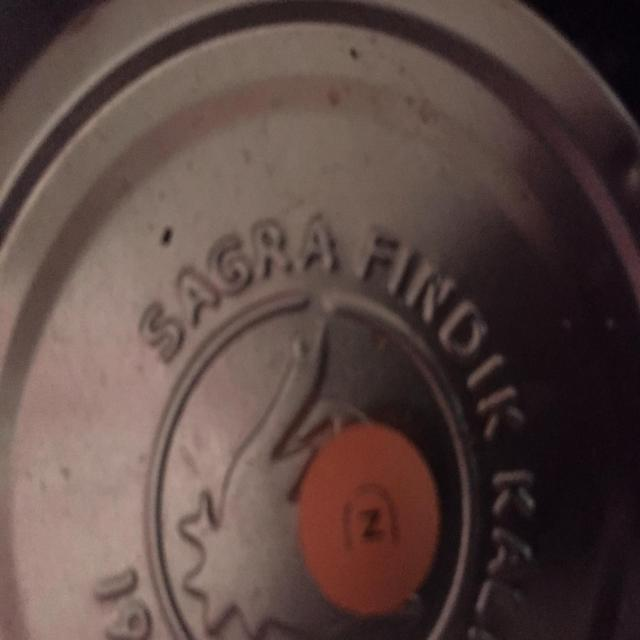pill: (293, 421, 448, 617)
